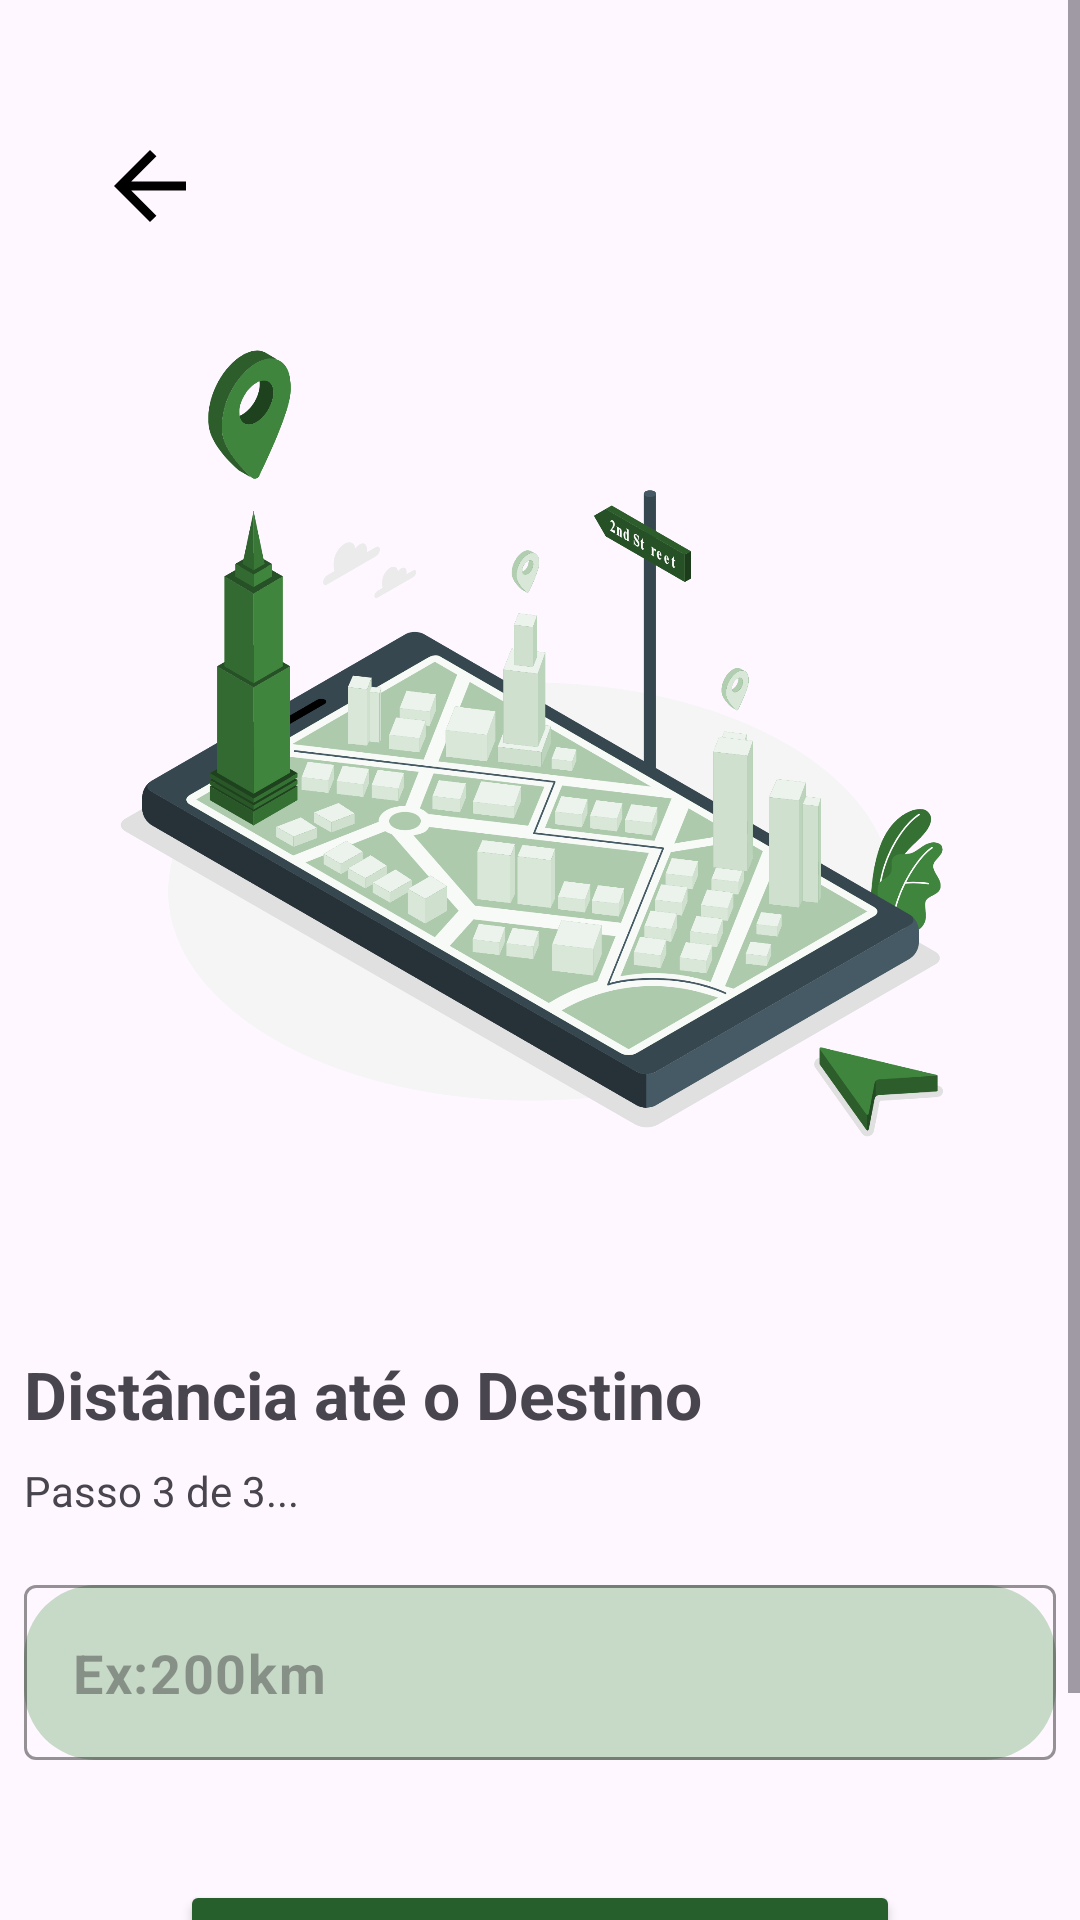

Named icons in this screenshot (1080 x 1920) and their centers, [x,y]:
Voltar: [150,186]
